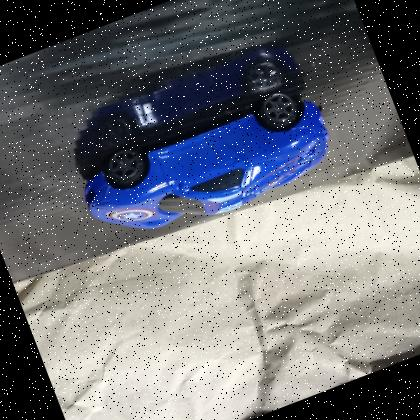Car: (83, 87, 329, 228)
